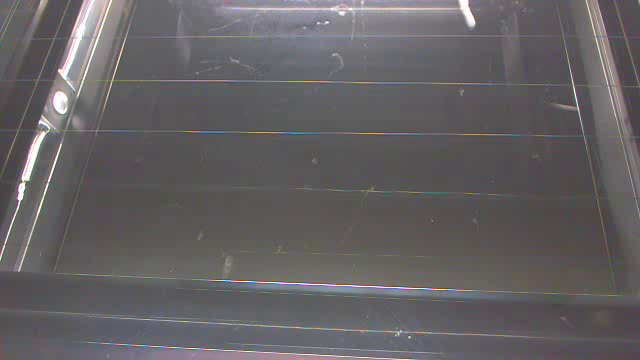alpha: (544, 95, 583, 117), (456, 7, 485, 30)
